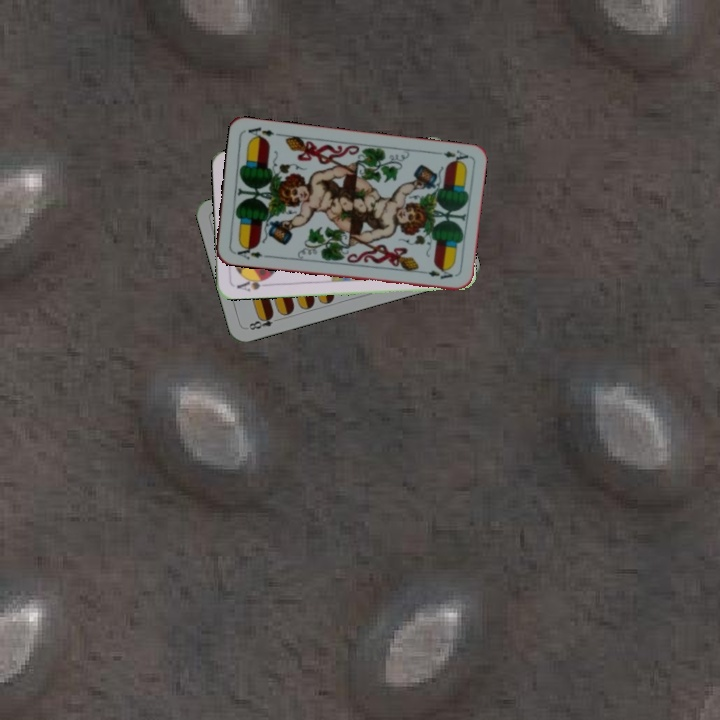E8: (243, 310, 283, 333)
EA: (431, 146, 471, 166), (229, 241, 265, 262)
SA: (233, 274, 272, 294)
